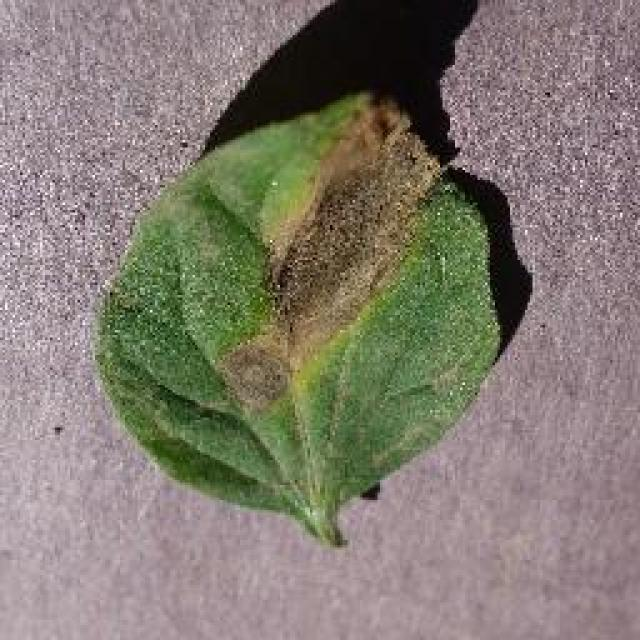Tomato Early blight leaf: (87, 90, 504, 532)
